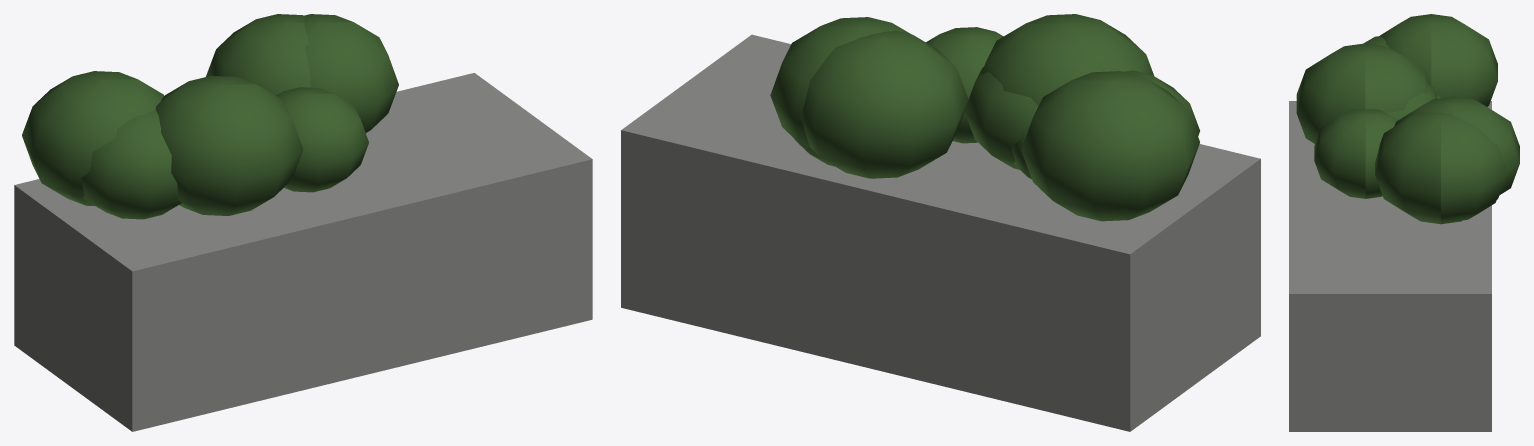
The model's file is prop_planter.glb.
3 renders of one model, left to right at view 1: azimuth 30°, elevation 25°; view 2: azimuth 150°, elevation 25°; view 3: azimuth 270°, elevation 25°, orthographic. The views are drawn at different scales.
Visible parts, largest first — view 1: prop_planter.box, prop_planter.shrubs; view 2: prop_planter.box, prop_planter.shrubs; view 3: prop_planter.box, prop_planter.shrubs.
Boxes of the visible parts, x1,y1,x2,y2 form: prop_planter.box: (14, 73, 592, 431); prop_planter.shrubs: (22, 14, 398, 219); prop_planter.box: (621, 34, 1260, 431); prop_planter.shrubs: (770, 14, 1199, 221); prop_planter.box: (1289, 101, 1491, 431); prop_planter.shrubs: (1296, 14, 1519, 224).
Bounding box in the file's own units: 1.87 × 1.06 × 0.9094.
